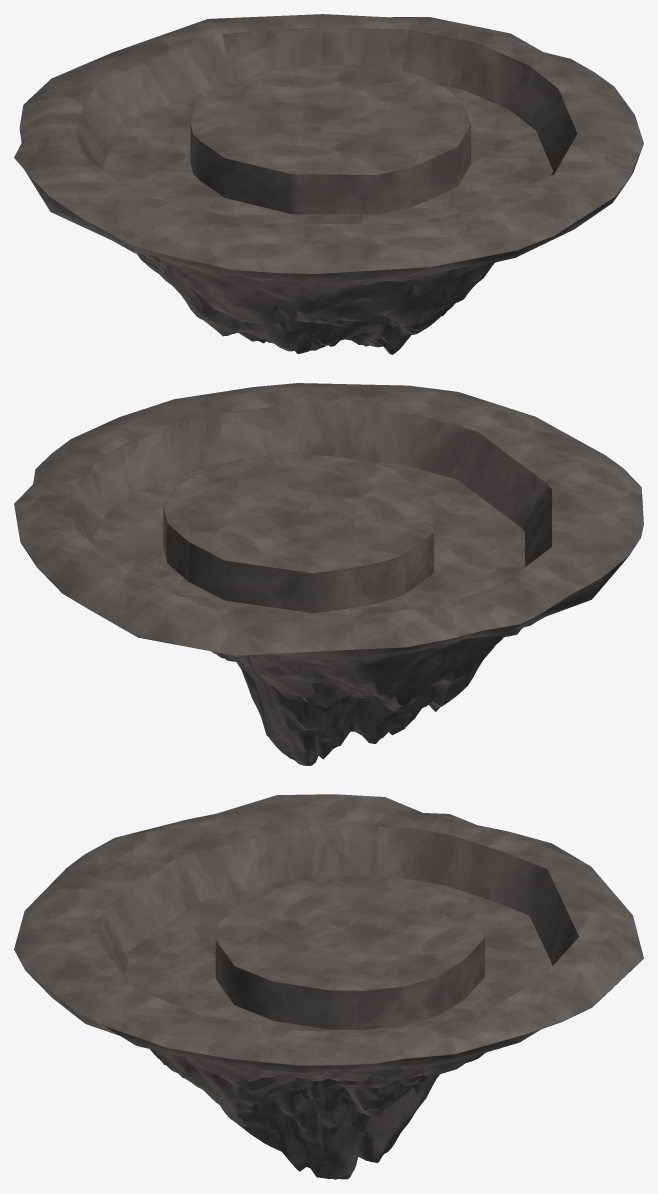
The model's file is Island Castle.fbx.
The picture shows the model from 3 angles, top to bottom: view 1: azimuth 30°, elevation 25°; view 2: azimuth 150°, elevation 25°; view 3: azimuth 270°, elevation 25°; orthographic projection. The views are drawn at different scales.
Parts seen in each view (by area): view 1: Island Castle_Baked; view 2: Island Castle_Baked; view 3: Island Castle_Baked.
Part boxes in pixels (<box>): Island Castle_Baked: <box>14,14,643,354</box>; Island Castle_Baked: <box>14,383,643,765</box>; Island Castle_Baked: <box>14,794,643,1179</box>.
Size of the model in its own units: 14187 by 5906 by 14388.
Materials: 1 (1 with a texture image).
